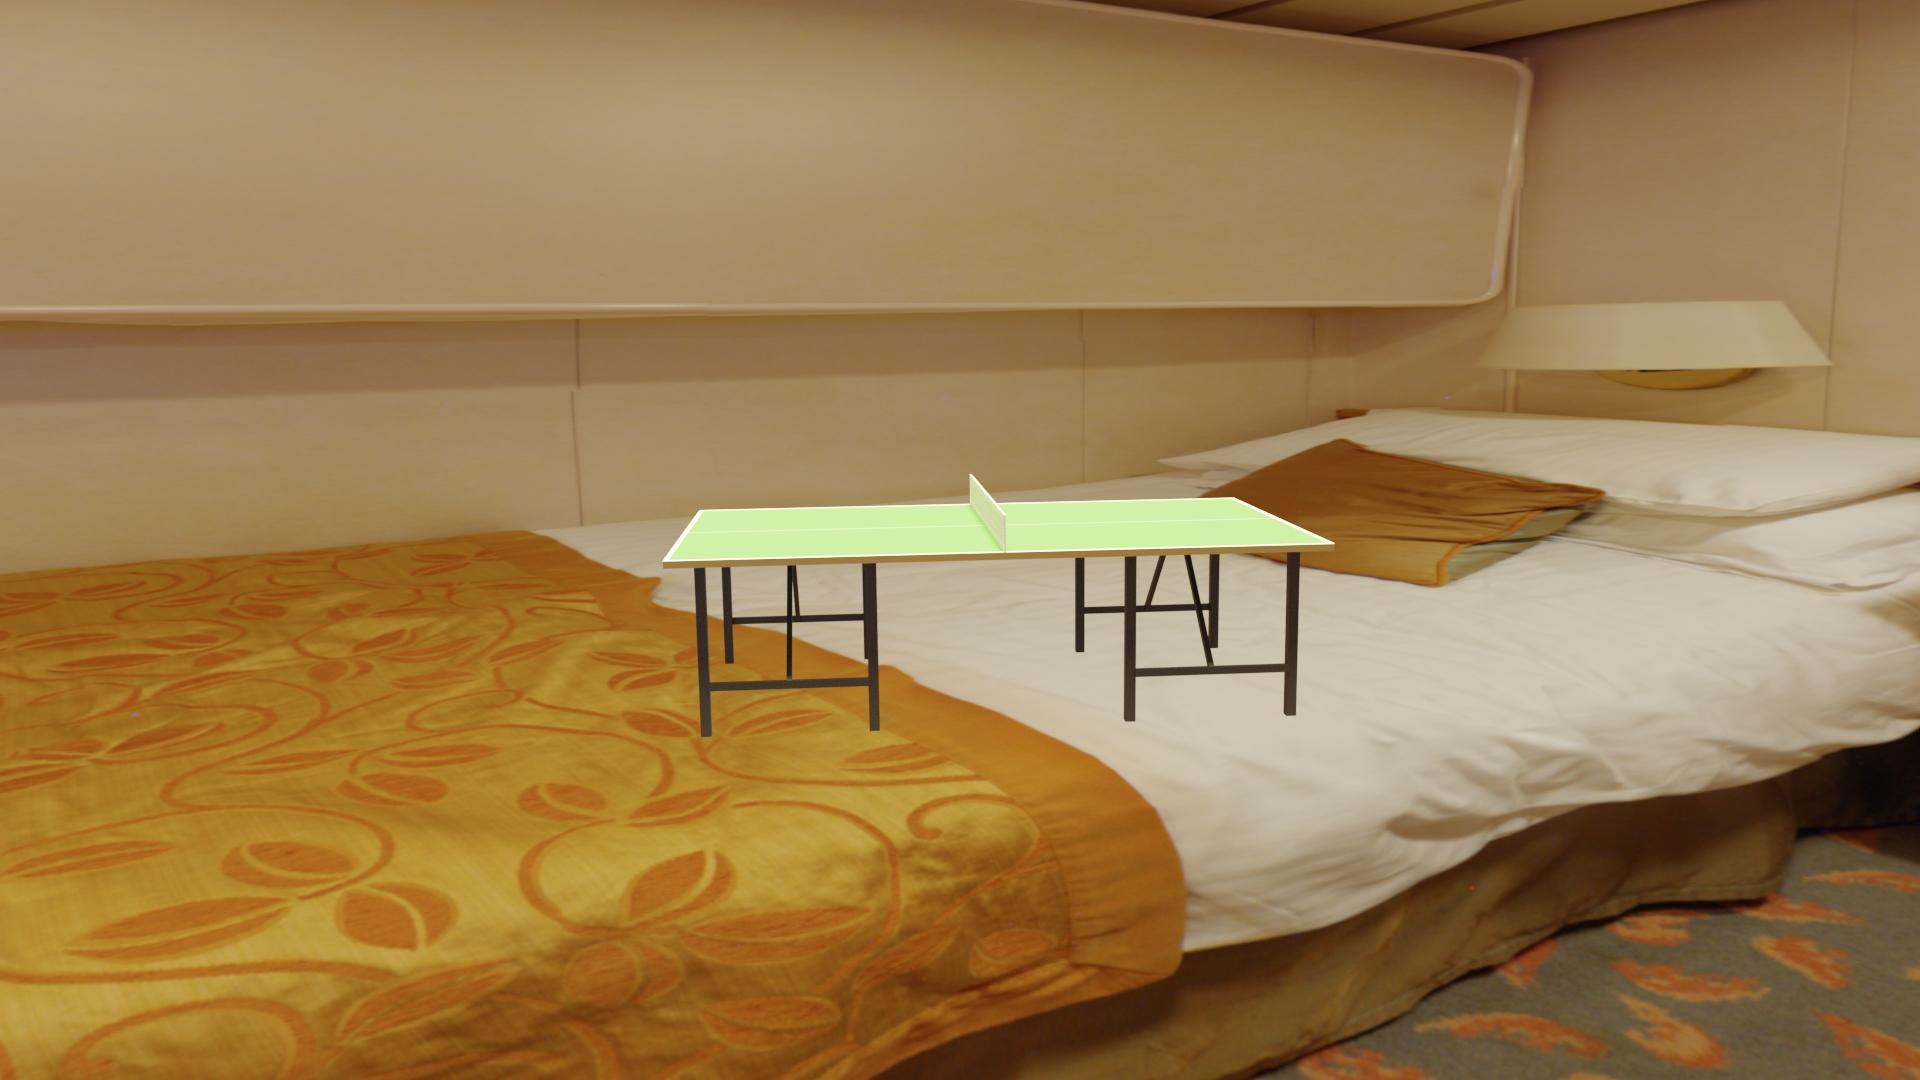table: (669, 498, 1328, 560)
